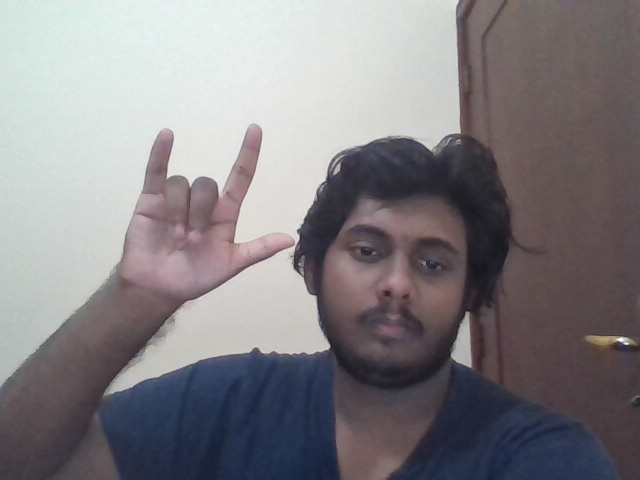iloveyou: (122, 123, 296, 301)
